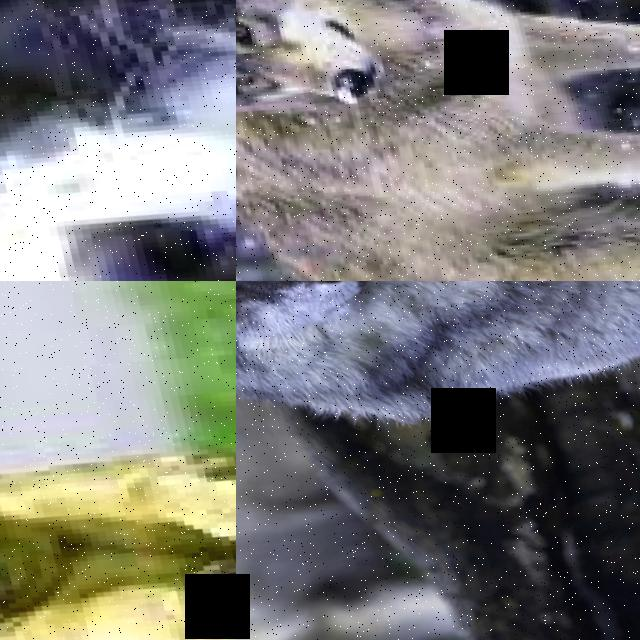dog: (0, 0, 236, 281), (0, 379, 236, 640)
wolf: (236, 0, 640, 281), (236, 295, 524, 640), (236, 281, 640, 480)
